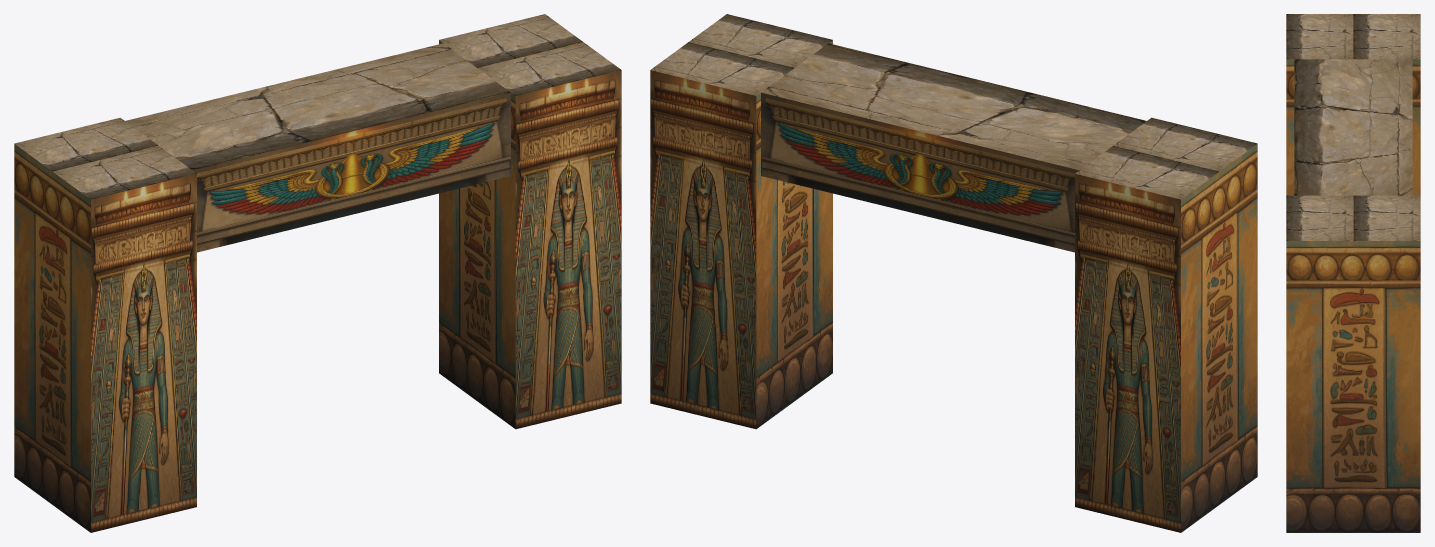
Rendered from EGY_Pylon12.fbx.
3 views of the same model, side by side, from view 1: azimuth 30°, elevation 25°; view 2: azimuth 150°, elevation 25°; view 3: azimuth 270°, elevation 25° (orthographic). The views are drawn at different scales.
Parts seen in each view (by area): view 1: EGY_Pylon12; view 2: EGY_Pylon12; view 3: EGY_Pylon12.
Part boxes in pixels (x1,y1,x2,y2): EGY_Pylon12: [14, 14, 621, 532]; EGY_Pylon12: [650, 14, 1257, 532]; EGY_Pylon12: [1286, 14, 1420, 532].
Bounding box in the file's own units: 20 × 5 × 12.
1 material, 1 textured.
